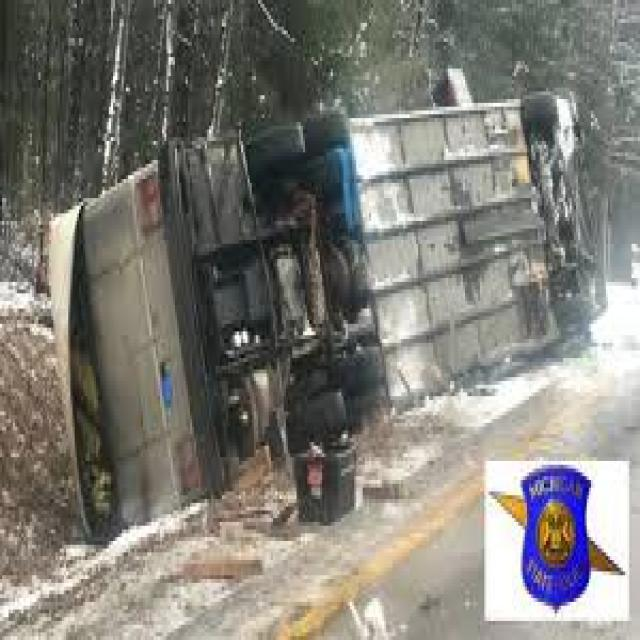accident: (35, 81, 640, 531)
